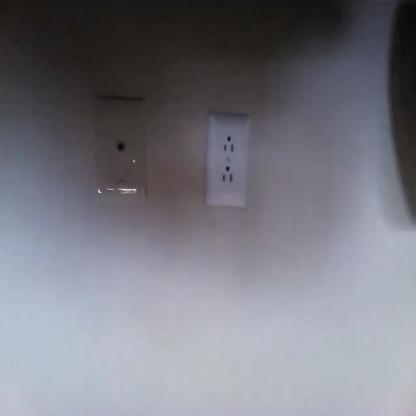OUTLET: (206, 116, 249, 207)
